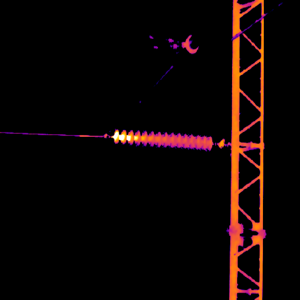insulator: (111, 124, 214, 151)
